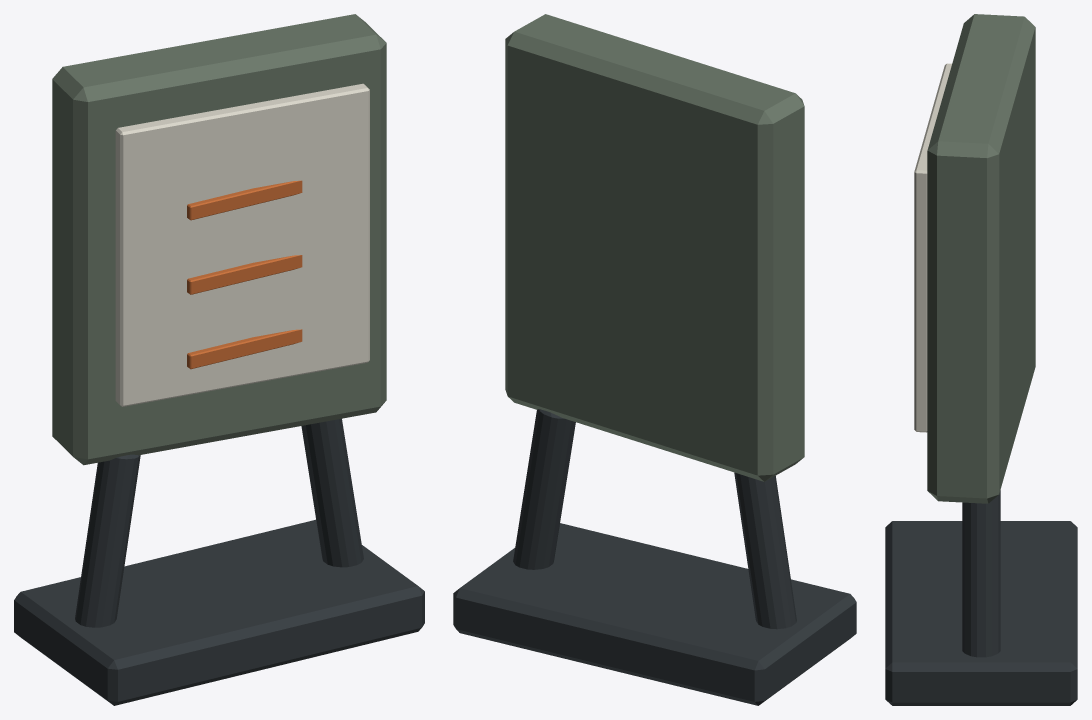
The model's file is PRP_CITY_016_storefront_menu_stand.glb.
3 views of the same model, side by side, from view 1: azimuth 30°, elevation 25°; view 2: azimuth 150°, elevation 25°; view 3: azimuth 270°, elevation 25° (orthographic). The views are drawn at different scales.
Parts seen in each view (by area): view 1: PRP_CITY_016_storefront_menu_stand_RenderMesh; view 2: PRP_CITY_016_storefront_menu_stand_RenderMesh; view 3: PRP_CITY_016_storefront_menu_stand_RenderMesh.
Boxes of the visible parts, box(x1,y1,x2,y2) form: PRP_CITY_016_storefront_menu_stand_RenderMesh: box(14, 14, 424, 705); PRP_CITY_016_storefront_menu_stand_RenderMesh: box(453, 14, 856, 705); PRP_CITY_016_storefront_menu_stand_RenderMesh: box(885, 14, 1077, 705).
Bounding box in the file's own units: 0.58 × 1.02 × 0.32.
